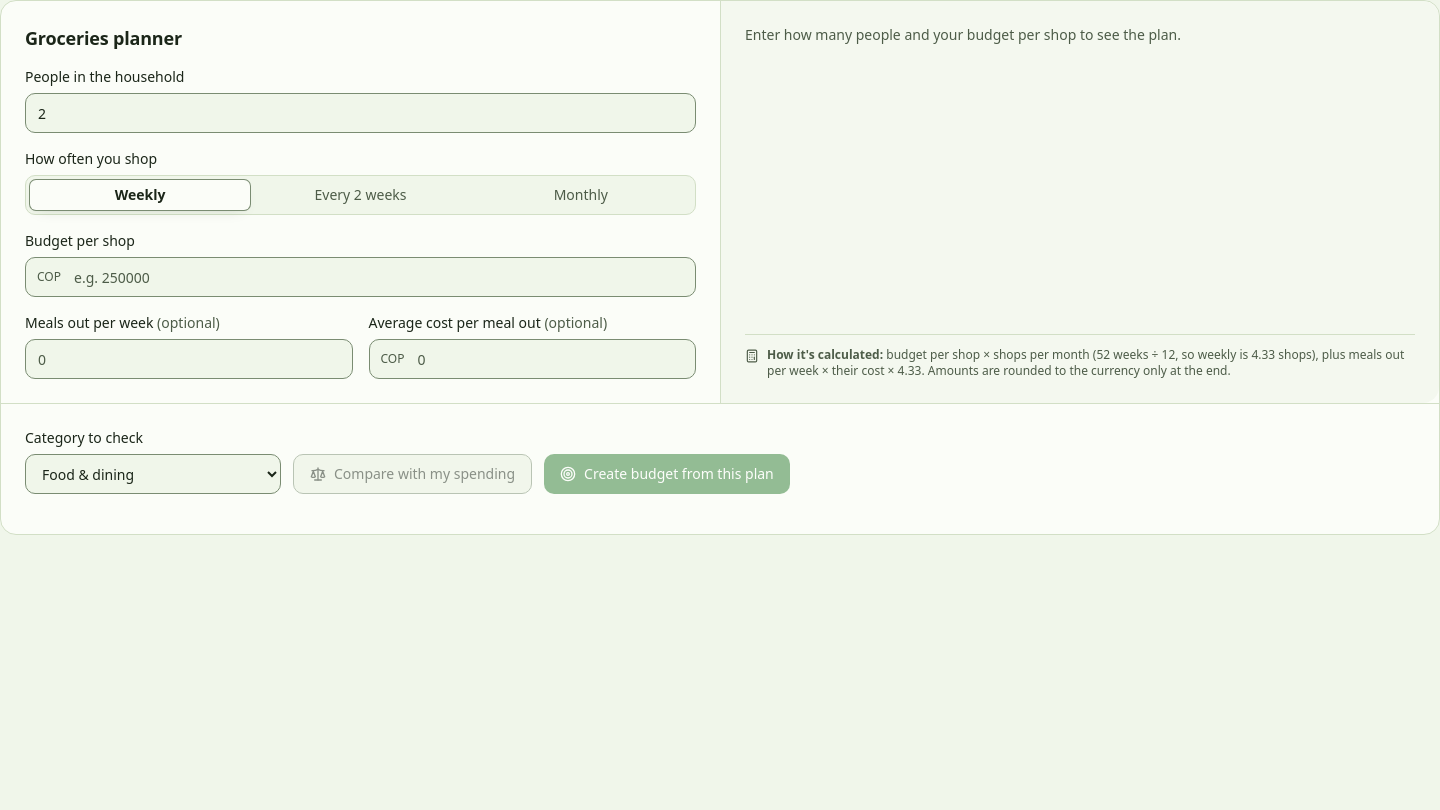
Scenario: GroceriesCalculator › says so when there is no spending in that category
Type "250000" into the number field labelled "Budget per shop".
click(360, 277); type("250000")  # box left=25, top=257, right=696, bottom=297
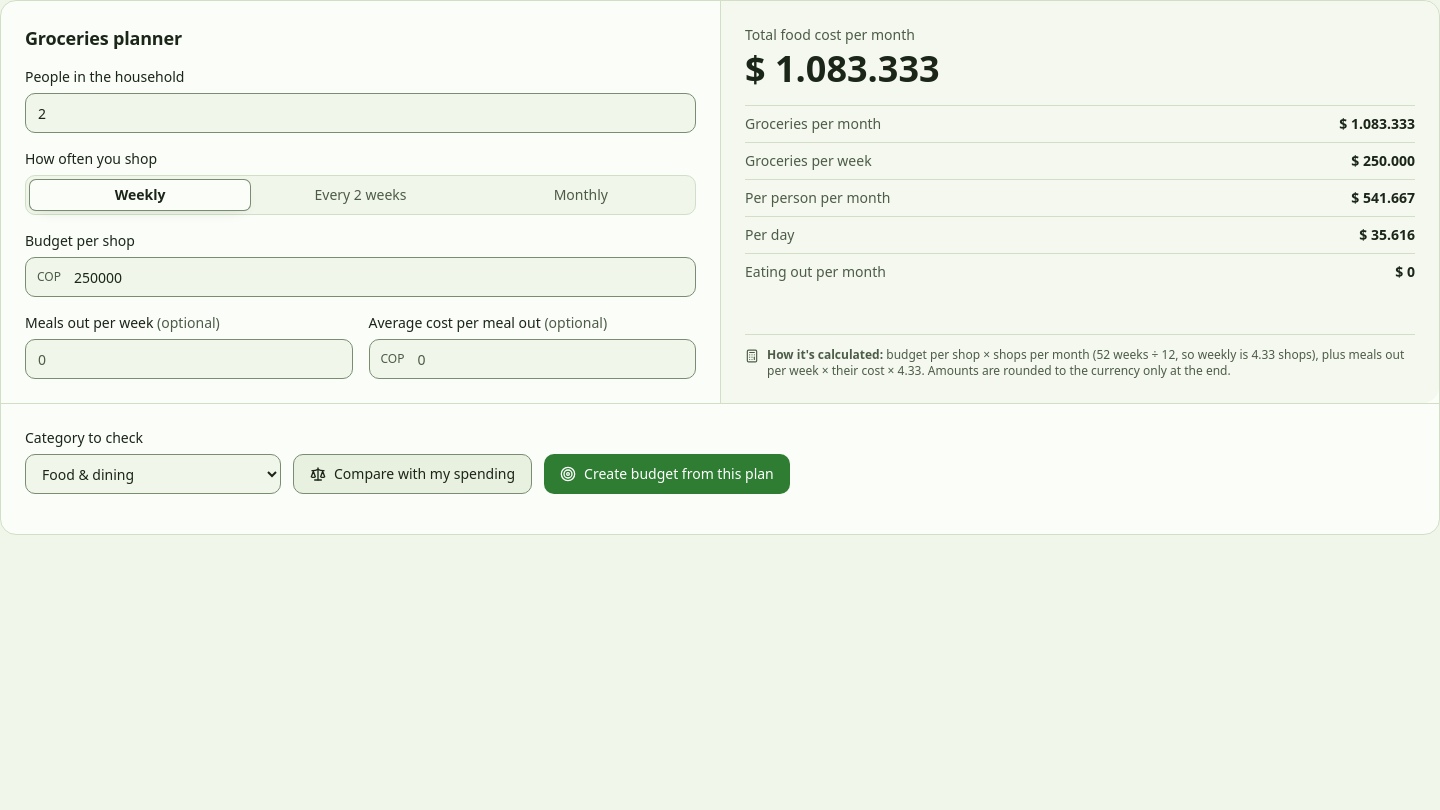
Click the button "Compare with my spending".
click(413, 474)  # box left=293, top=454, right=532, bottom=494
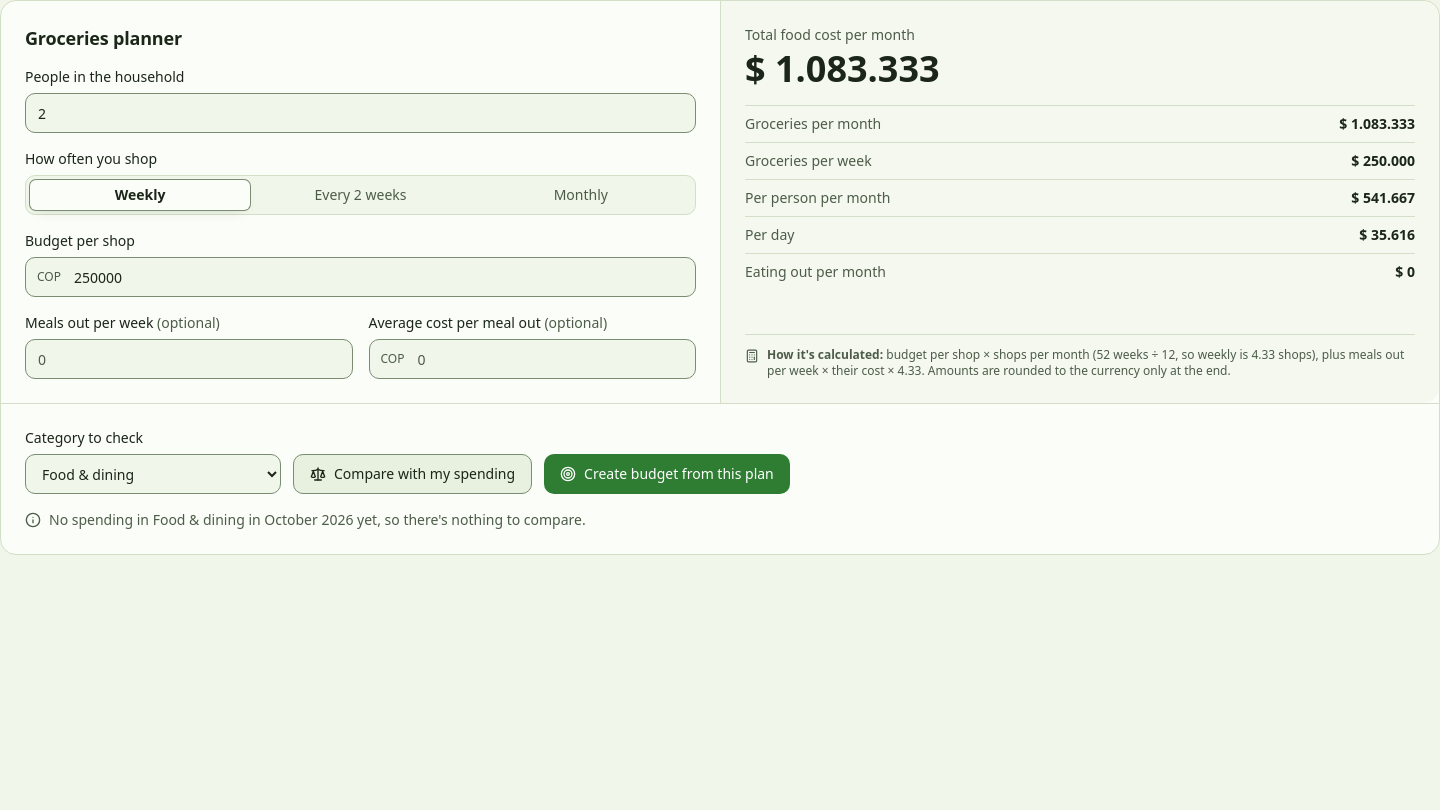
expect the text "No spending in Food & dining in October 2026 yet" is shown: met, box left=25, top=510, right=586, bottom=529
